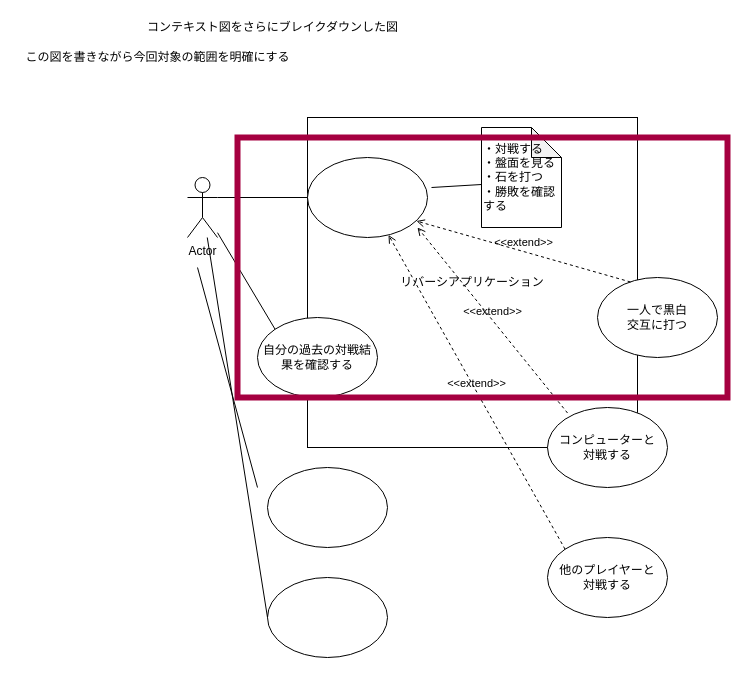
Some shapes in this 747 by 675 pixel diagram are drawn without their labels. Here are the shapes that lost their labels. From the top down, the centre of each, then its label:
At point (367, 197): "対戦する".
At point (327, 507): "会員登録・ログインする".
At point (327, 617): "プレイヤーのランキングを確認する".
